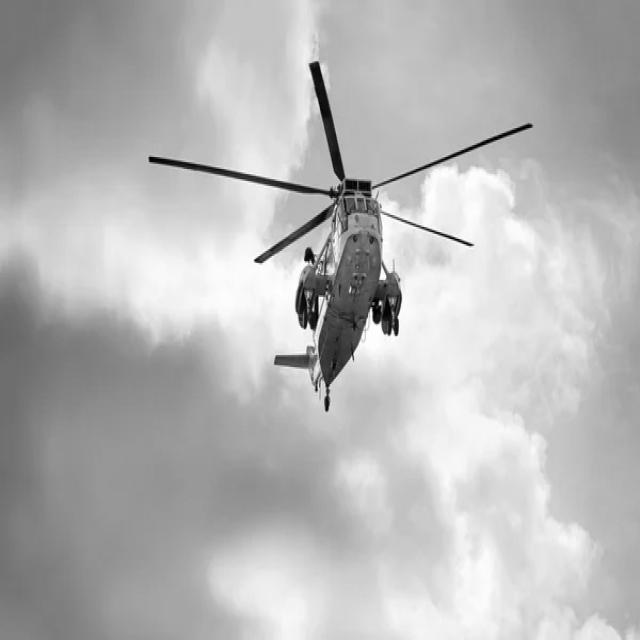Helicopter: (148, 60, 534, 410)
